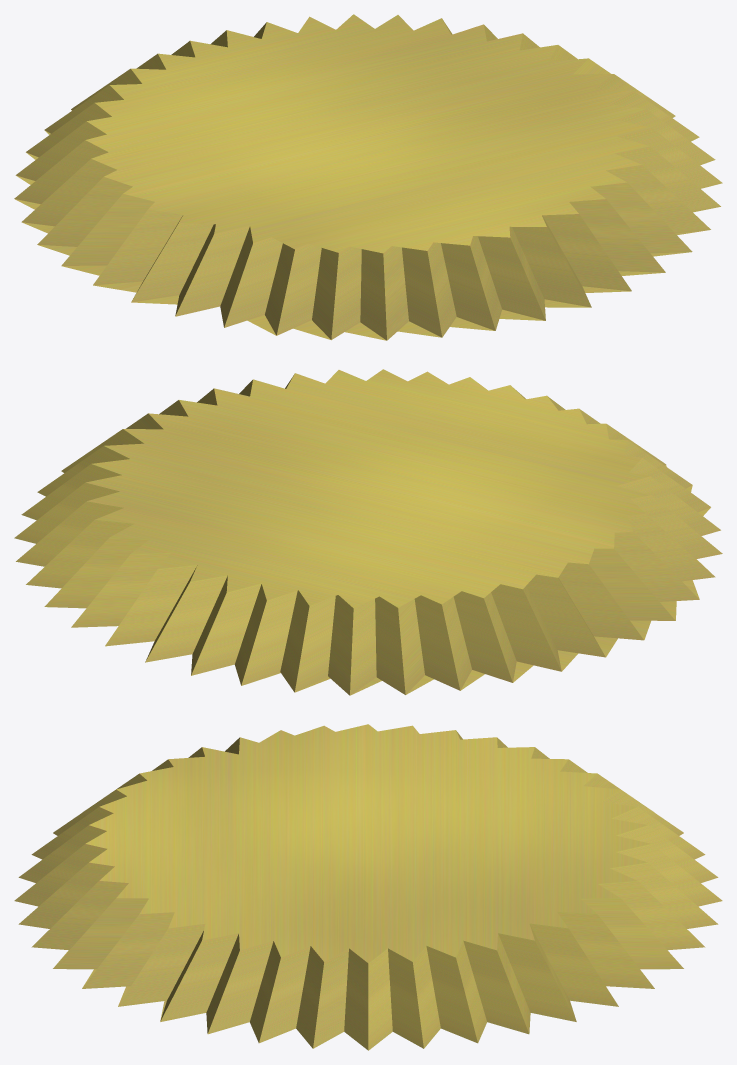
The model's file is ClockStraightBevel040.fbx.
3 views of the same model, one above another, from view 1: azimuth 30°, elevation 25°; view 2: azimuth 150°, elevation 25°; view 3: azimuth 270°, elevation 25° (orthographic).
Visible parts, largest first — view 1: ClockStraightBevel040; view 2: ClockStraightBevel040; view 3: ClockStraightBevel040.
Boxes of the visible parts, <box> form: ClockStraightBevel040: <box>14,14,722,340</box>; ClockStraightBevel040: <box>14,369,722,695</box>; ClockStraightBevel040: <box>14,724,722,1050</box>.
Bounding box in the file's own units: 221 × 19.69 × 221.
